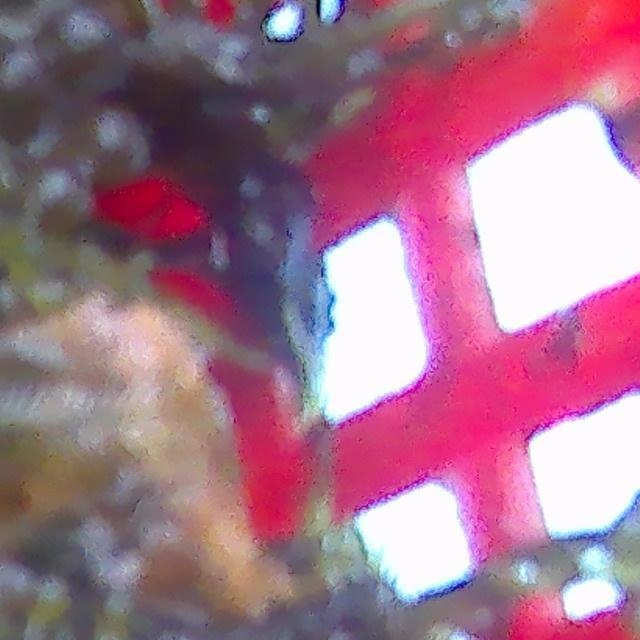SeaGrape: (36, 3, 130, 91), (83, 110, 151, 182), (0, 57, 60, 122), (32, 173, 92, 234)
